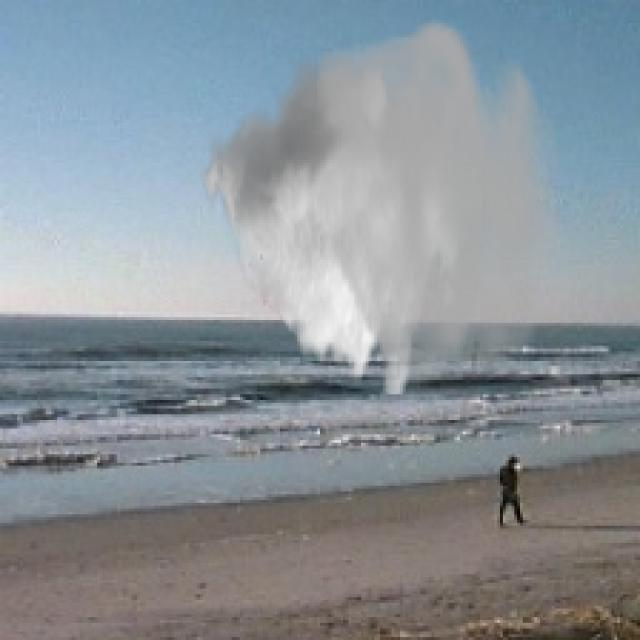smoke: (200, 14, 563, 394)
